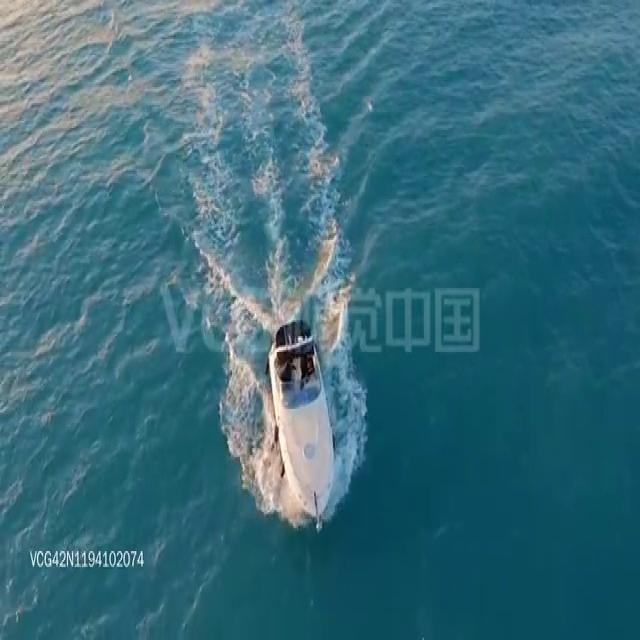houseboat: (266, 316, 336, 520)
